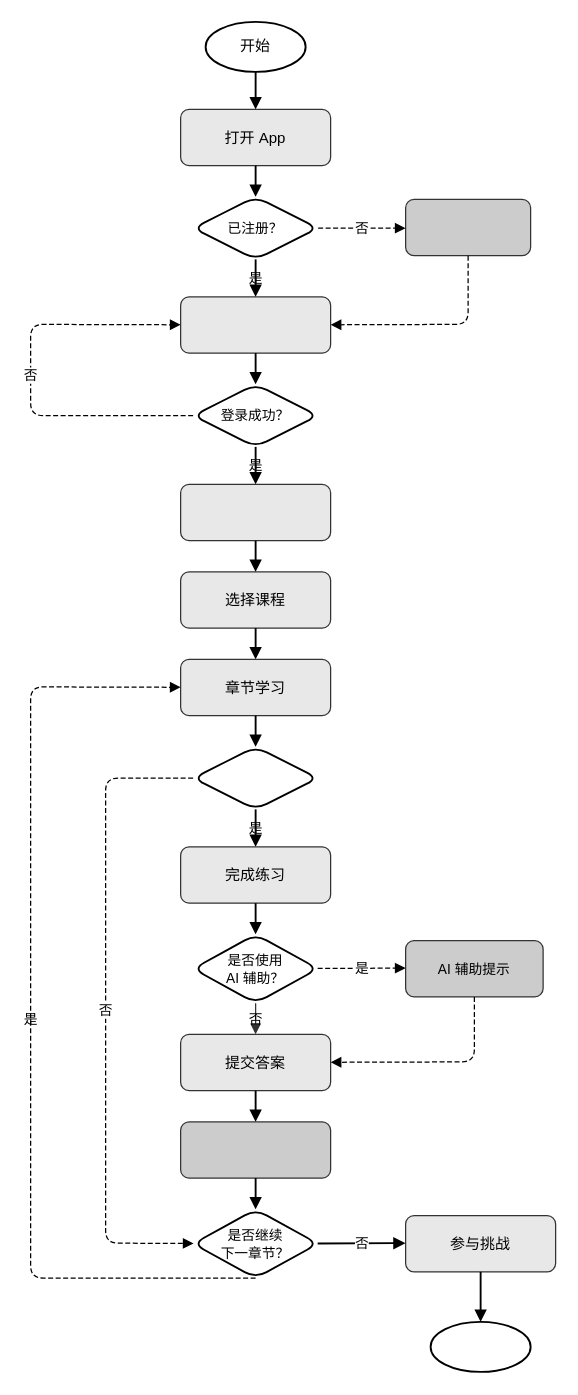
Image size: 578x1395. Some labels were removed from this diagram. Here are the shapes that lost their labels. From the top down, the box of each, then its label:
(404, 198, 531, 256): 注册账号
(179, 296, 331, 353): 登录
(179, 483, 331, 541): 浏览课程列表
(192, 745, 318, 810): 是否练习？
(179, 1121, 331, 1178): 获取评分/反馈
(429, 1320, 531, 1372): 结束
